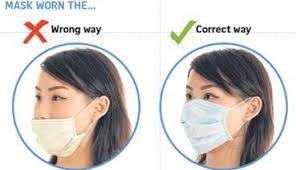mask_weared_incorrect: (31, 83, 87, 146)
with_mask: (183, 82, 231, 139)
